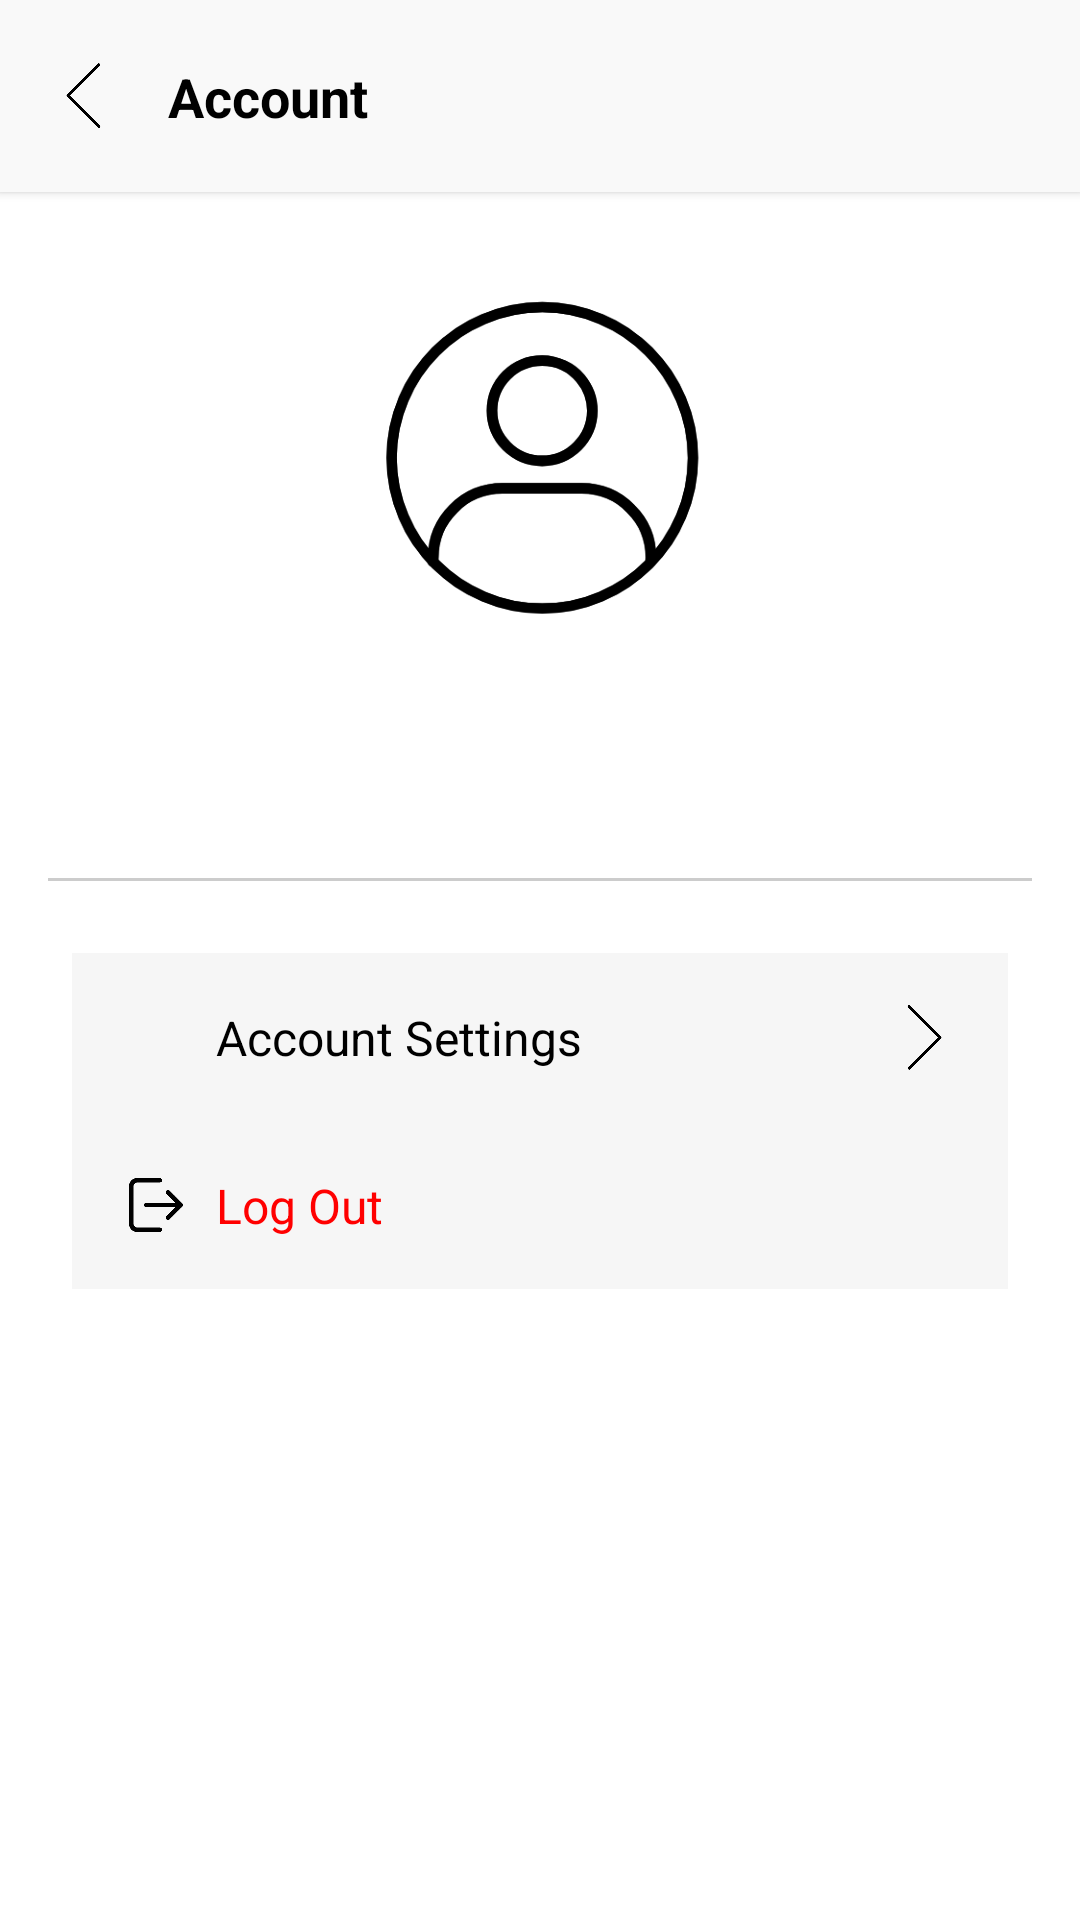

Icon bounding boxes for this 1080*1920 phone screenshot, format (x1, y1, x2, y2):
Arrow Icon: (908, 1005, 942, 1070)
Back: (66, 63, 100, 128)
Profile Picture: (386, 301, 699, 614)
